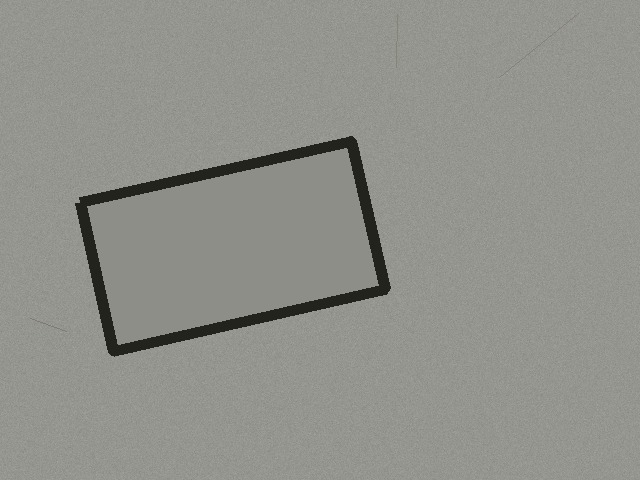parking_area: (80, 141, 385, 351)
